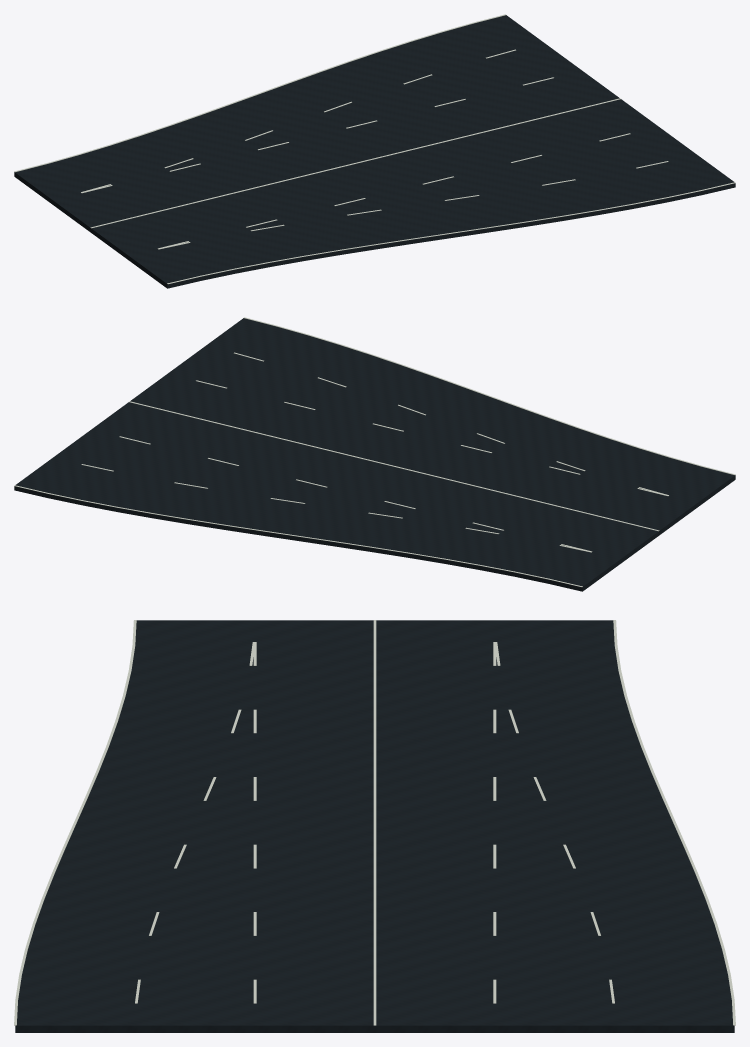
Rendered from Transit_Road_Taper_4L_6L_24m.glb.
The picture shows the model from 3 angles, top to bottom: view 1: azimuth 30°, elevation 25°; view 2: azimuth 150°, elevation 25°; view 3: azimuth 270°, elevation 25°; orthographic projection. The views are drawn at different scales.
Parts seen in each view (by area): view 1: Transit_Road_Taper_4L_6L_24m_Surface, Transit_Road_Taper_4L_6L_24m_MarkCenter, Transit_Road_Taper_4L_6L_24m_MarkEdge-1, Transit_Road_Taper_4L_6L_24m_MarkEdge1; view 2: Transit_Road_Taper_4L_6L_24m_Surface, Transit_Road_Taper_4L_6L_24m_MarkCenter, Transit_Road_Taper_4L_6L_24m_MarkEdge1, Transit_Road_Taper_4L_6L_24m_MarkEdge-1; view 3: Transit_Road_Taper_4L_6L_24m_Surface, Transit_Road_Taper_4L_6L_24m_MarkCenter, Transit_Road_Taper_4L_6L_24m_MarkEdge-1, Transit_Road_Taper_4L_6L_24m_MarkEdge1.
Boxes of the visible parts, <box> form: Transit_Road_Taper_4L_6L_24m_Surface: <box>14,15,735,288</box>; Transit_Road_Taper_4L_6L_24m_MarkCenter: <box>90,98,620,228</box>; Transit_Road_Taper_4L_6L_24m_MarkEdge-1: <box>167,182,735,284</box>; Transit_Road_Taper_4L_6L_24m_MarkEdge1: <box>14,14,505,172</box>; Transit_Road_Taper_4L_6L_24m_Surface: <box>14,318,735,591</box>; Transit_Road_Taper_4L_6L_24m_MarkCenter: <box>129,401,659,531</box>; Transit_Road_Taper_4L_6L_24m_MarkEdge1: <box>14,485,582,587</box>; Transit_Road_Taper_4L_6L_24m_MarkEdge-1: <box>244,317,735,475</box>; Transit_Road_Taper_4L_6L_24m_Surface: <box>15,620,734,1032</box>; Transit_Road_Taper_4L_6L_24m_MarkCenter: <box>373,620,376,1025</box>; Transit_Road_Taper_4L_6L_24m_MarkEdge-1: <box>14,620,136,1025</box>; Transit_Road_Taper_4L_6L_24m_MarkEdge1: <box>613,620,735,1025</box>.
Size of the model in its own units: 24 by 0.212 by 18.07.
Materials: 2 (1 with a texture image).
